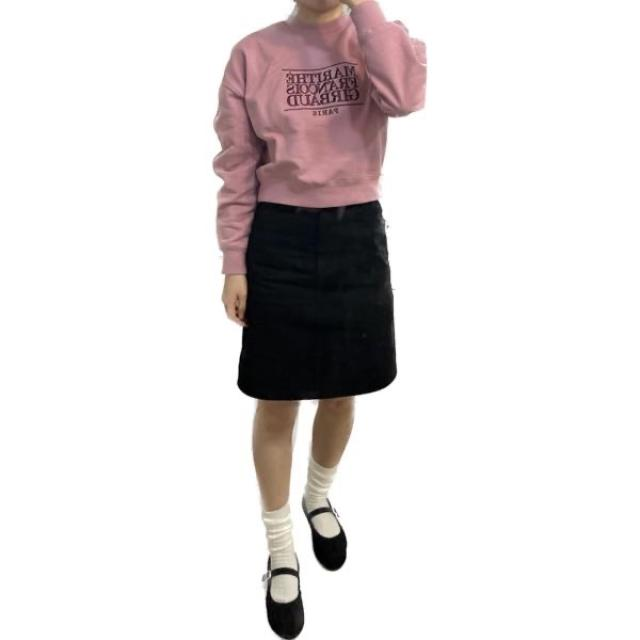mtm: (209, 6, 427, 283)
skirt: (236, 193, 396, 399)
